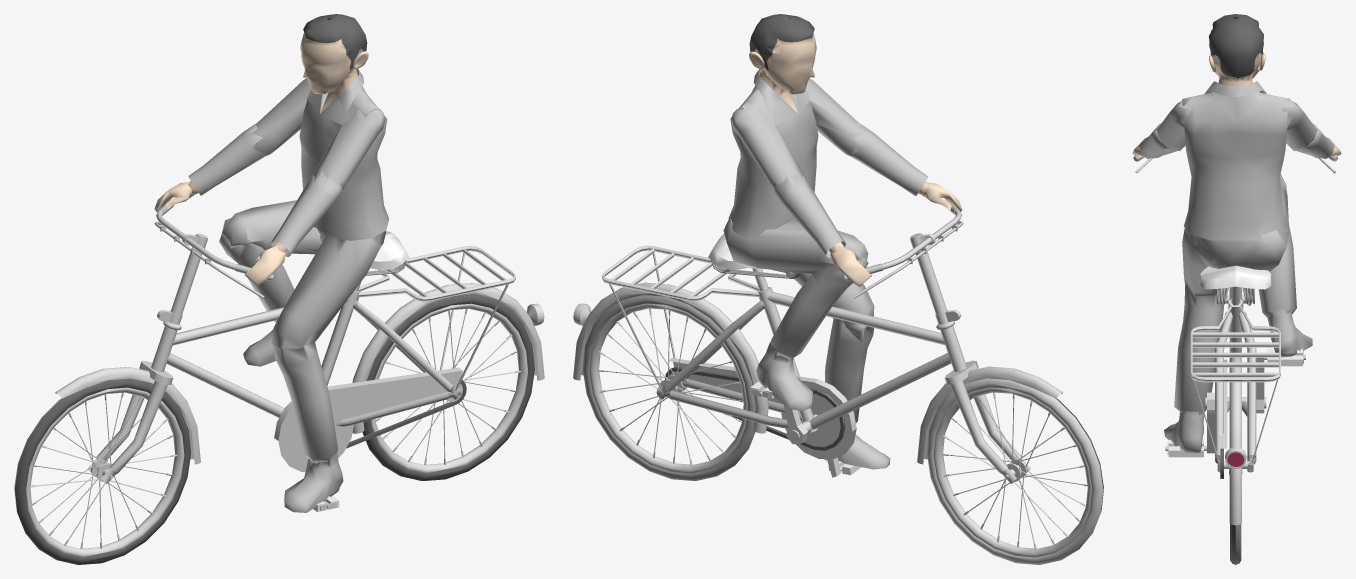
The model's file is bicycle.glb.
3 views of the same model, side by side, from view 1: azimuth 30°, elevation 25°; view 2: azimuth 150°, elevation 25°; view 3: azimuth 270°, elevation 25° (orthographic).
Visible parts, largest first — view 1: Bicycle; view 2: Bicycle; view 3: Bicycle.
Boxes of the visible parts, x1,y1,x2,y2 form: Bicycle: (14,14,544,564); Bicycle: (573,14,1103,564); Bicycle: (1132,14,1341,564).
Size of the model in its own units: 1.19 by 1.05 by 0.4143.
